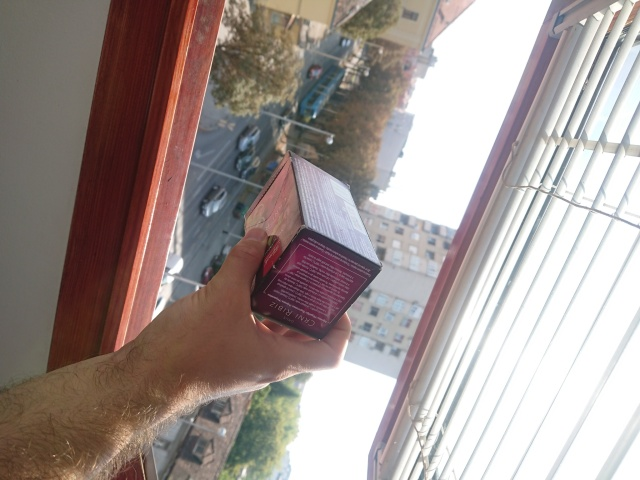Franck Black Currant Tea 60g: (240, 148, 385, 342)
